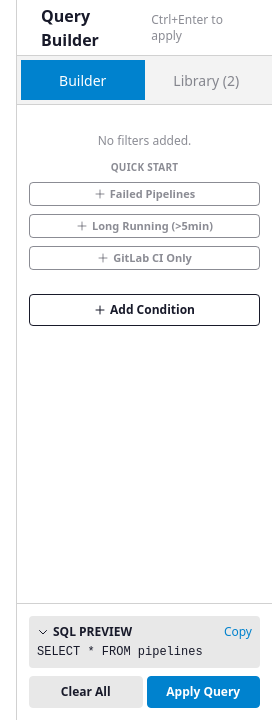
QueryBuilderSidebar › removes condition when remove button is clicked
Click the button "Failed Pipelines".
click(144, 194)  # box [29,182,260,206]
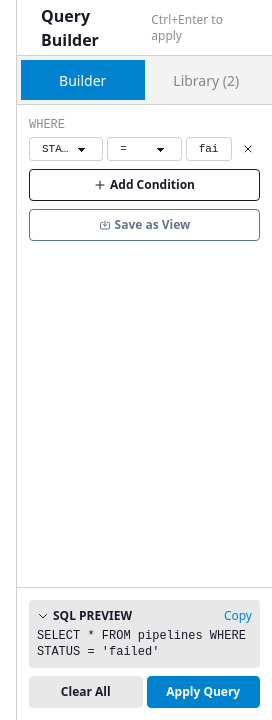
Click the 3rd button.
click(248, 149)  # box [236,137,260,161]
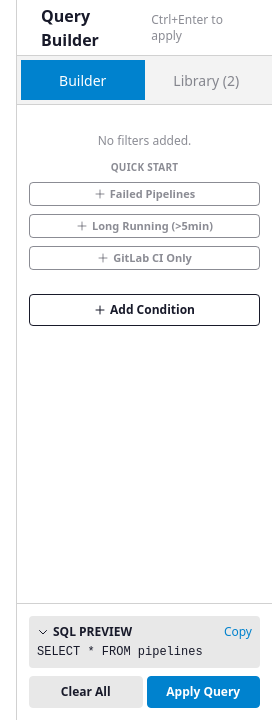
Check: the text showing "STATUS" is gone
